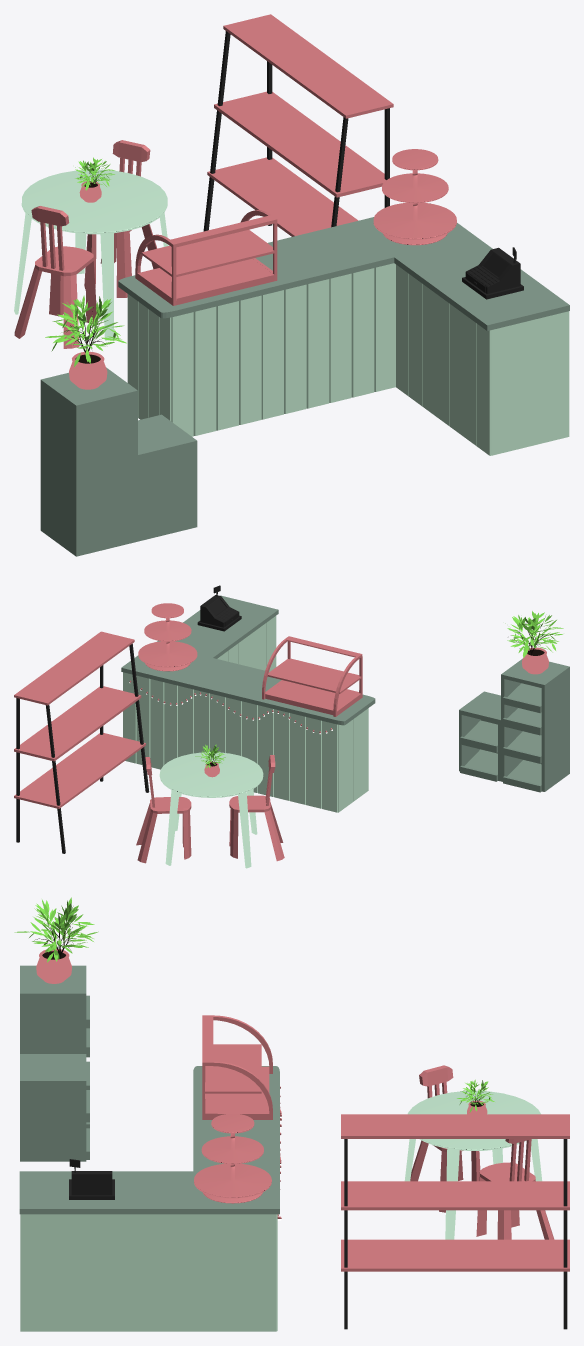
Rendered from bakery_element.glb.
3 renders of one model, top to bottom at view 1: azimuth 30°, elevation 25°; view 2: azimuth 150°, elevation 25°; view 3: azimuth 270°, elevation 25°, orthographic. The views are drawn at different scales.
Visible parts, largest first — view 1: Counter_6, Cabnets_8, Cube_37, counter top_7, table_17, display case_10, Cylinder.001_41, Chair_16, Chair.001_18, Cash register_12, leaves_13, Plant pot_9; view 2: Counter_6, Cube_37, Cabnets_8, counter top_7, table_17, display case_10, Cylinder.001_41, Chair.001_18, Chair_16, leaves_13, Cash register_12, Plant pot_9; view 3: Counter_6, Cube_37, Cabnets_8, counter top_7, display case_10, Cylinder.001_41, table_17, Chair.001_18, leaves_13, Chair_16, Cash register_12, Plant pot_9.
Boxes of the visible parts, x1,y1,x2,y2 form: Counter_6: (127,263,569,455); Cabnets_8: (40,367,197,556); Cube_37: (203,14,393,236); counter top_7: (118,203,569,330); table_17: (14,169,168,340); display case_10: (135,210,277,305); Cylinder.001_41: (373,149,456,245); Chair_16: (14,206,97,348); Chair.001_18: (84,140,158,297); Cash register_12: (462,247,523,299); leaves_13: (45,295,127,366); Plant pot_9: (69,351,107,389); Counter_6: (123,616,368,812); Cube_37: (14,631,149,853); Cabnets_8: (459,658,569,792); counter top_7: (121,595,375,725); table_17: (159,752,263,868); display case_10: (262,636,362,716); Cylinder.001_41: (138,603,197,671); Chair.001_18: (136,757,191,863); Chair_16: (229,755,284,861); leaves_13: (505,611,563,657); Cash register_12: (197,585,241,631); Plant pot_9: (522,647,548,674); Counter_6: (20,1214,277,1331); Cube_37: (341,1114,569,1329); Cabnets_8: (20,965,89,1161); counter top_7: (19,1066,279,1214); display case_10: (202,1015,272,1119); Cylinder.001_41: (194,1113,271,1203); table_17: (404,1090,542,1239); Chair.001_18: (476,1139,554,1239); leaves_13: (14,897,98,962); Chair_16: (410,1065,480,1212); Cash register_12: (69,1159,114,1199); Plant pot_9: (36,948,71,983).
Size of the model in its own units: 8.3 by 3.7 by 8.55.
